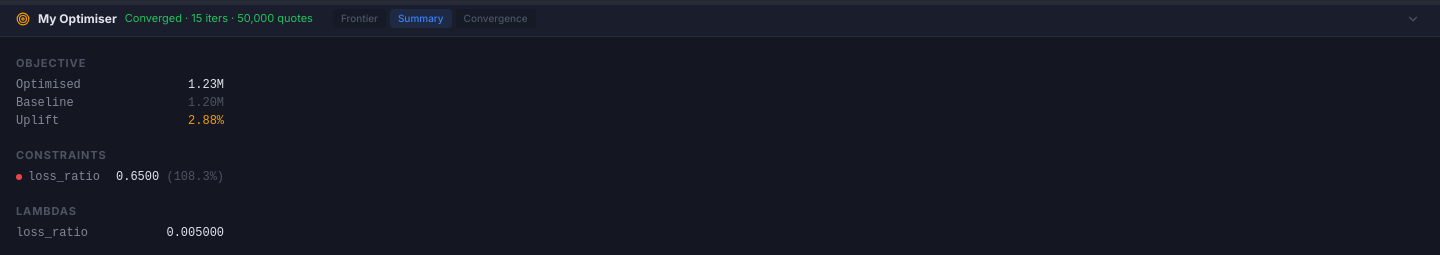
Test case: OptimiserPreview › tab switching › switches to Frontier tab on click
The image size is (1440, 255).
Step 1. Click the button "Frontier" → (359, 18), box [333, 9, 386, 28]
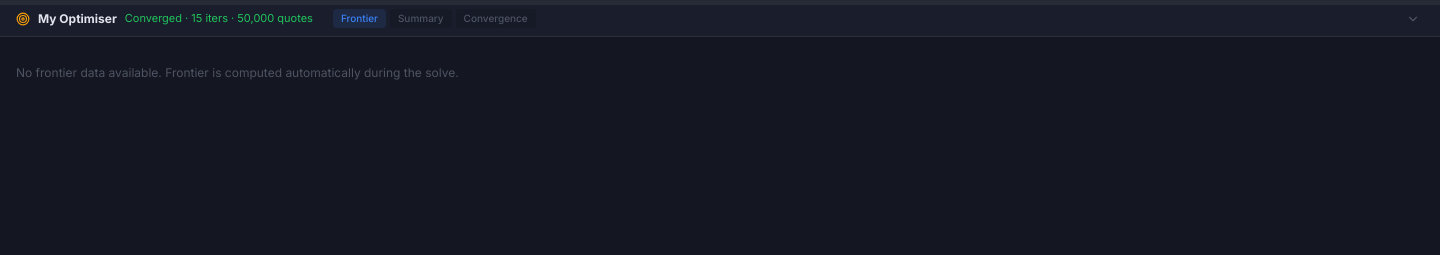
Result: the text "No frontier data available" is shown at [16, 65, 459, 80]
